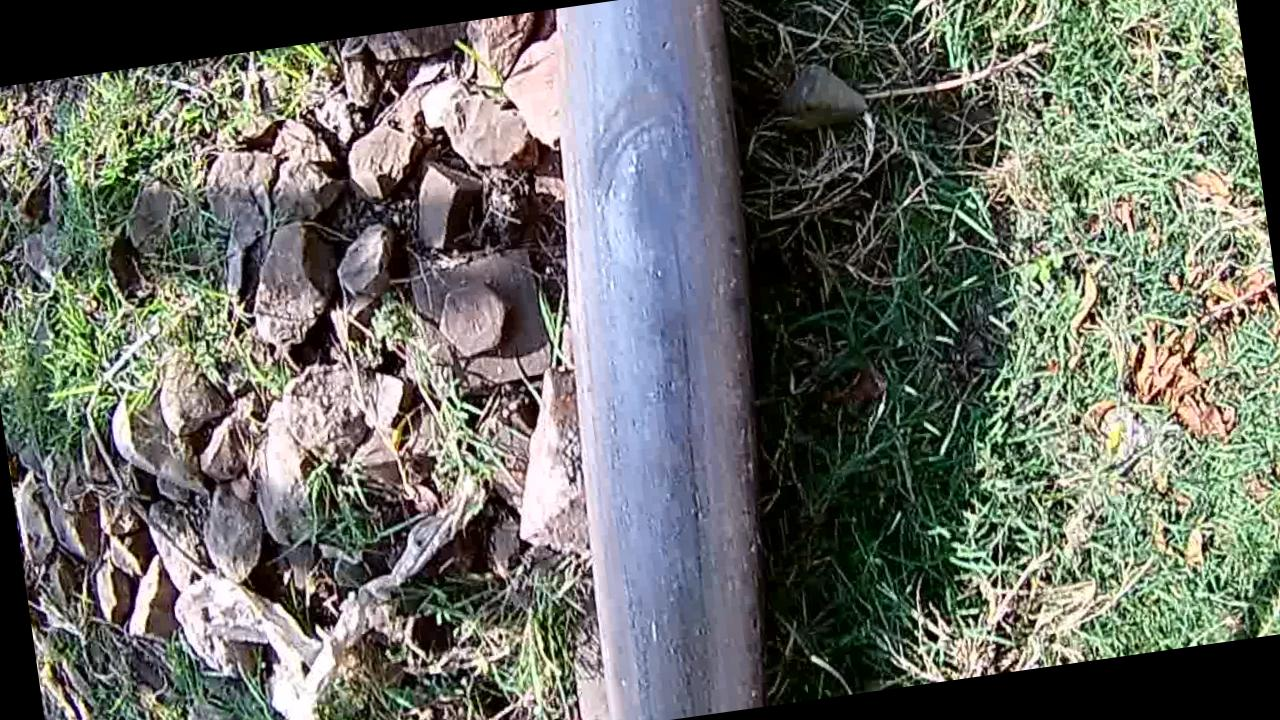bolt_missing: (536, 0, 808, 720)
